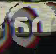Speed limit: (6, 6, 52, 50)
